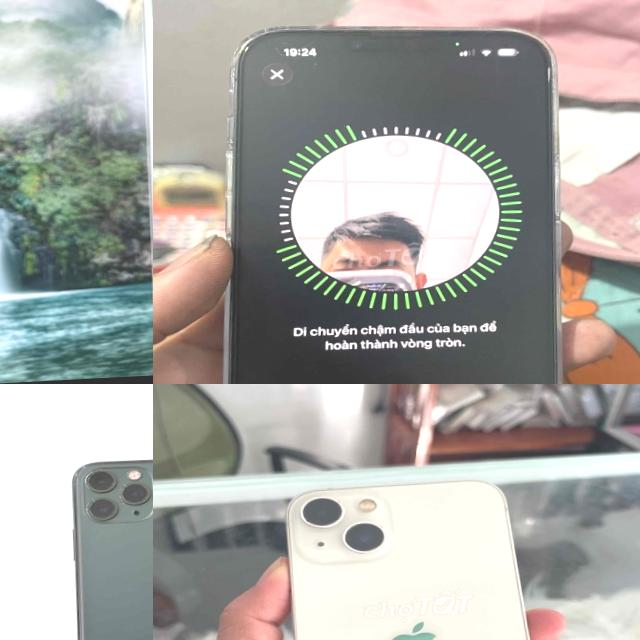gen_11: (64, 442, 153, 640)
gen_12_13: (191, 0, 582, 384), (274, 470, 564, 640)
